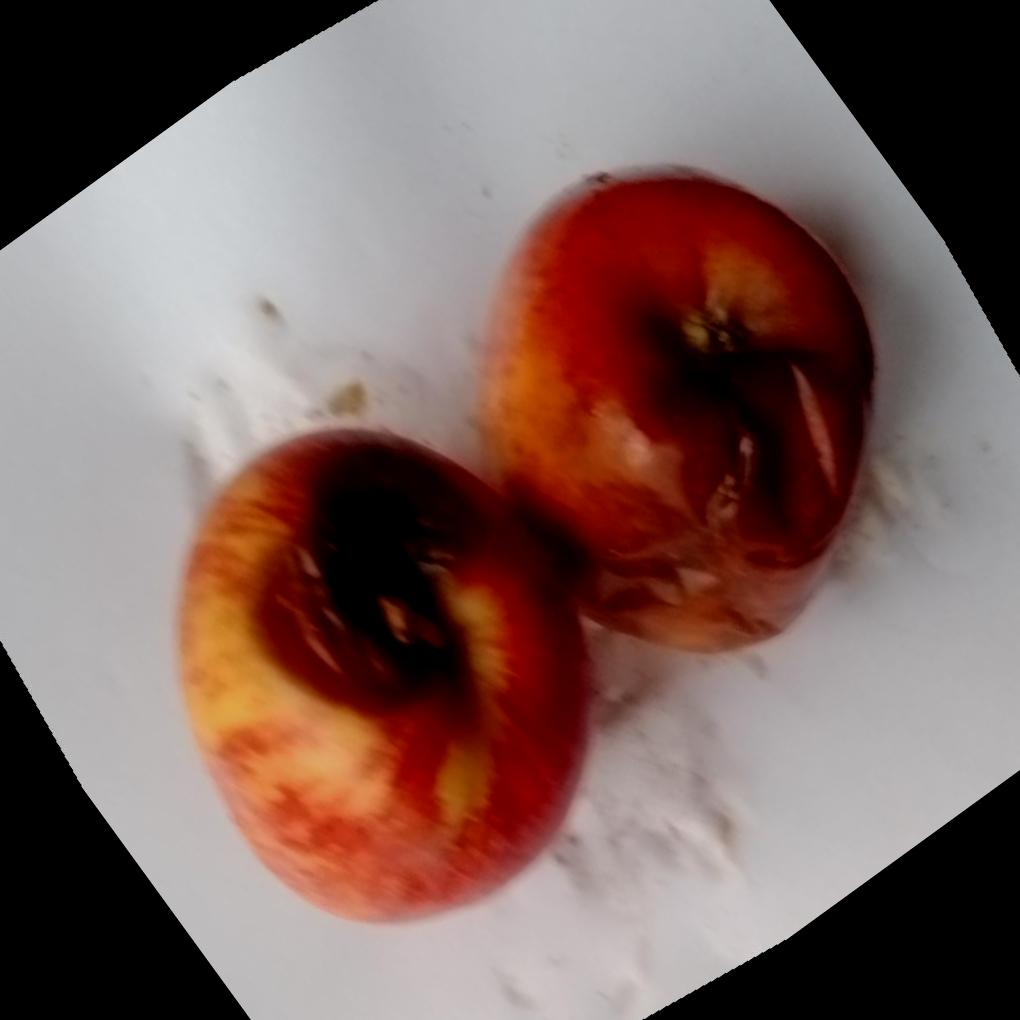FreshOrange: (170, 167, 875, 931), (208, 165, 875, 895)
